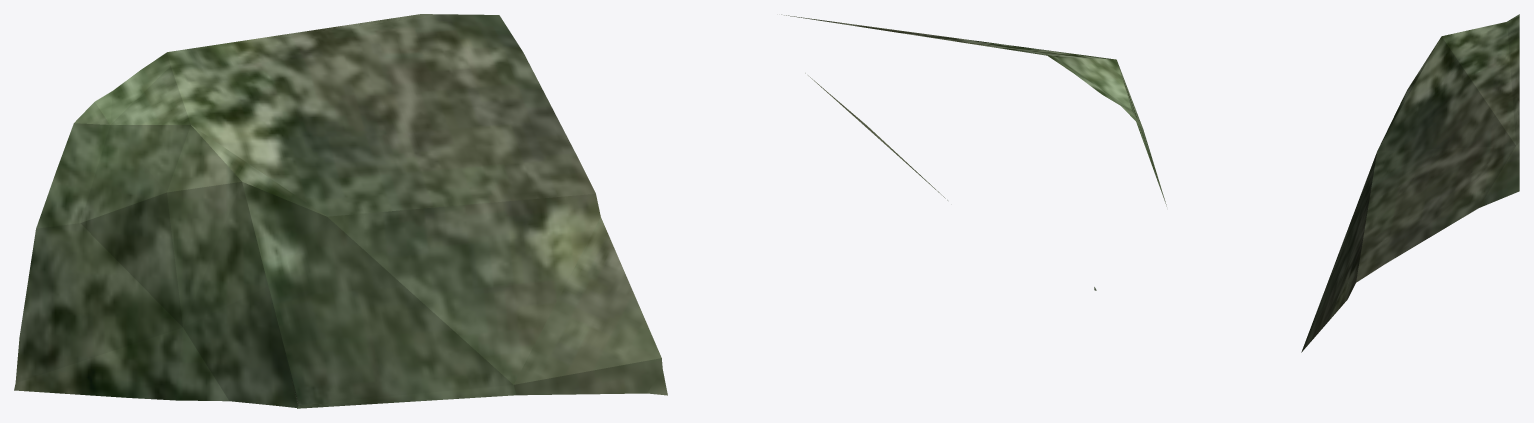
The picture shows the model from 3 angles, left to right: view 1: azimuth 30°, elevation 25°; view 2: azimuth 150°, elevation 25°; view 3: azimuth 270°, elevation 25°; orthographic projection. The views are drawn at different scales.
Size of the model in its own units: 2.23 by 1.32 by 1.34.
Materials: 1 (1 with a texture image).
